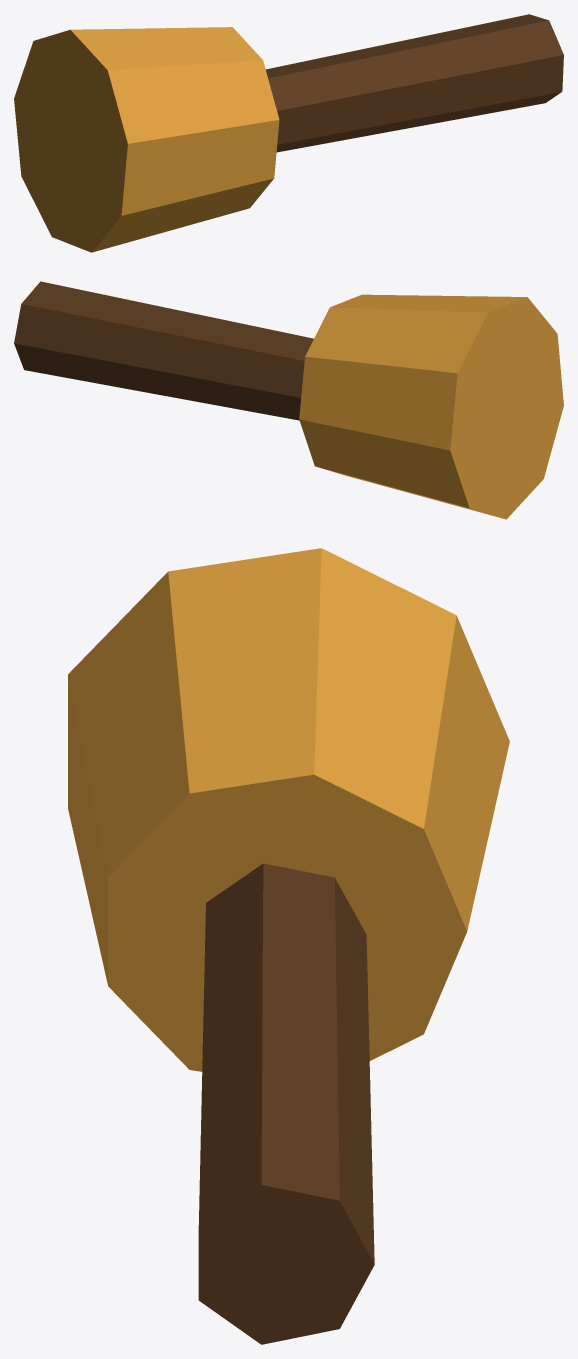
Rendered from arm_r.obj.
The picture shows the model from 3 angles, top to bottom: view 1: azimuth 30°, elevation 25°; view 2: azimuth 150°, elevation 25°; view 3: azimuth 270°, elevation 25°; orthographic projection. The views are drawn at different scales.
Visible parts, largest first — view 1: Small_fabric_shoulder_R, Upper_twig_arm_R; view 2: Small_fabric_shoulder_R, Upper_twig_arm_R; view 3: Small_fabric_shoulder_R, Upper_twig_arm_R.
Boxes of the visible parts, x1,y1,x2,y2 form: Small_fabric_shoulder_R: (14,27,279,252); Upper_twig_arm_R: (265,14,563,152); Small_fabric_shoulder_R: (299,294,563,519); Upper_twig_arm_R: (14,281,313,420); Small_fabric_shoulder_R: (68,548,509,1071); Upper_twig_arm_R: (198,863,374,1344).
Bounding box in the file's own units: 0.6243 × 0.251 × 0.2483.
